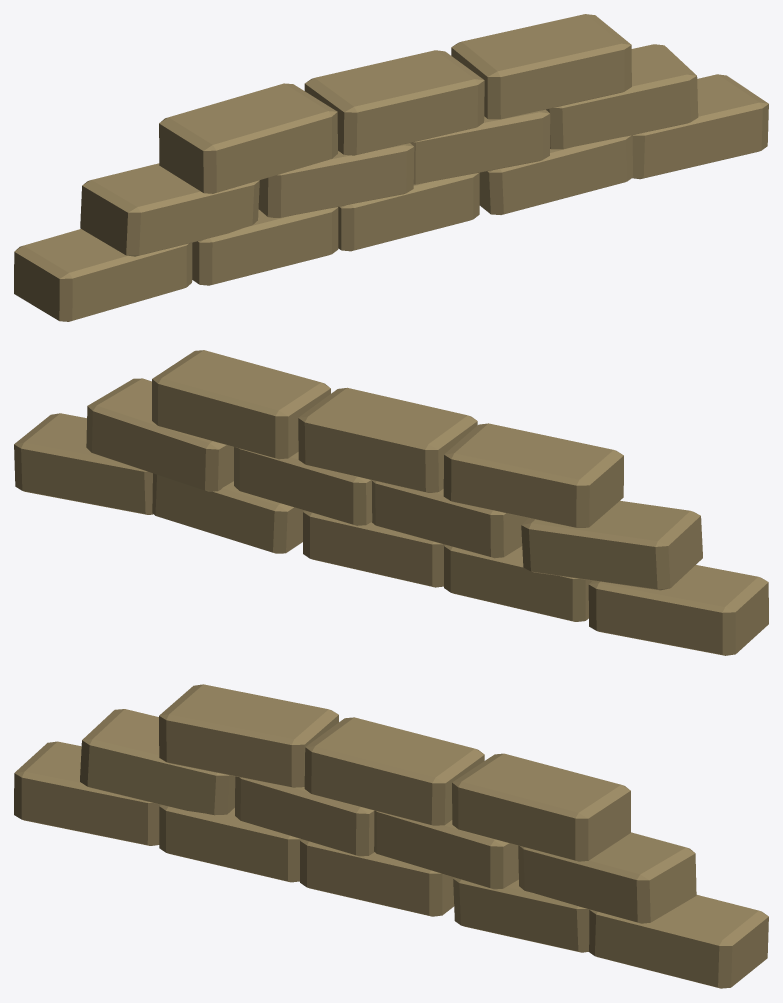
Rendered from Sandbags.fbx.
3 views of the same model, one above another, from view 1: azimuth 30°, elevation 25°; view 2: azimuth 150°, elevation 25°; view 3: azimuth 330°, elevation 25° (orthographic).
Parts seen in each view (by area): view 1: Sandbags; view 2: Sandbags; view 3: Sandbags.
Boxes of the visible parts, bbox=[...] form: Sandbags: bbox=[14, 14, 768, 321]; Sandbags: bbox=[14, 350, 768, 655]; Sandbags: bbox=[14, 684, 768, 988].
Size of the model in its own units: 3.08 by 0.5947 by 0.3895.
